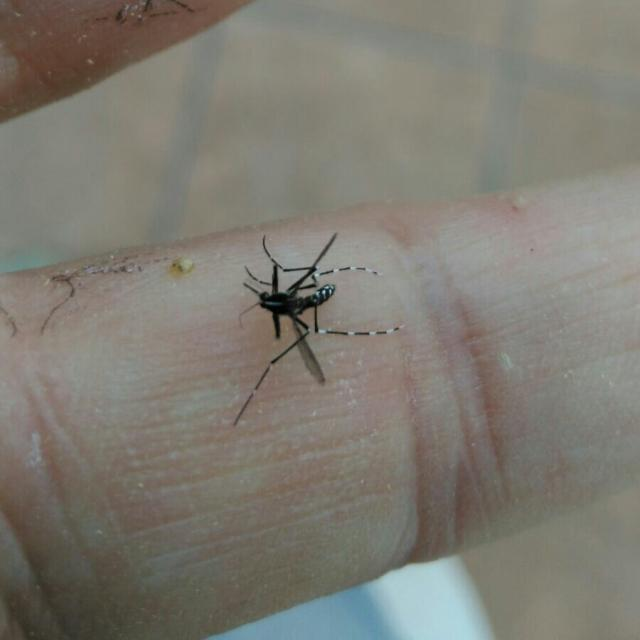albopictus: (220, 220, 412, 432)
